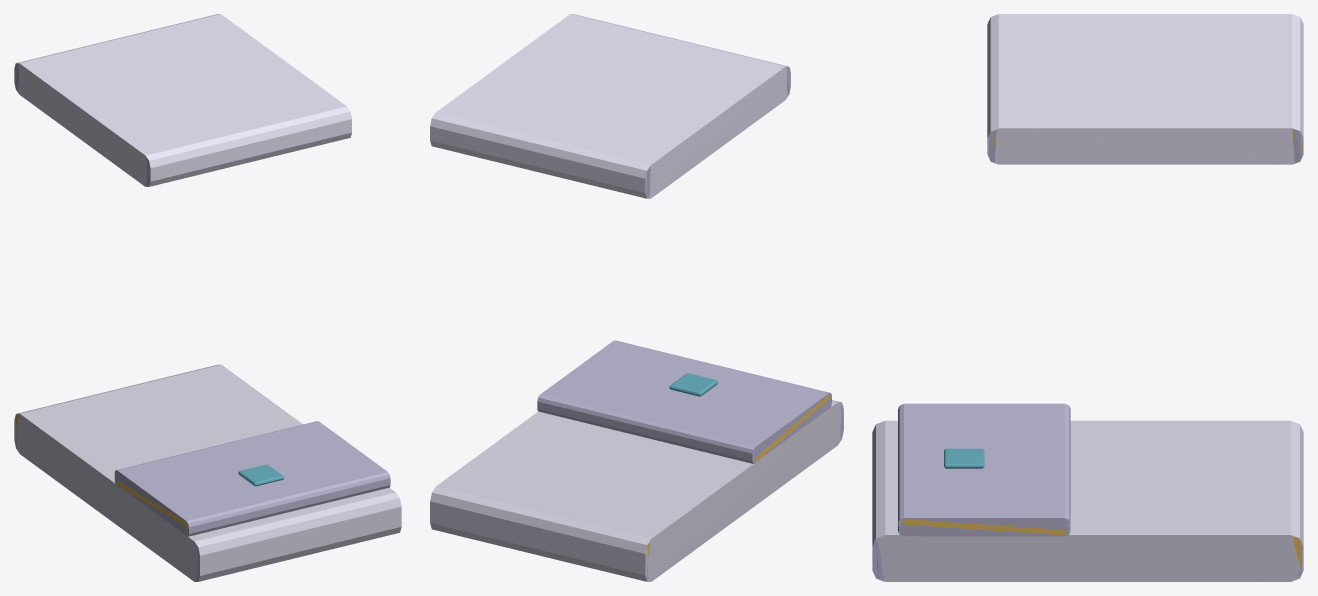
The model's file is SM_ModularShelf_MiddleSection2.fbx.
The picture shows the model from 3 angles, left to right: view 1: azimuth 30°, elevation 25°; view 2: azimuth 150°, elevation 25°; view 3: azimuth 270°, elevation 25°; orthographic projection. The views are drawn at different scales.
Parts seen in each view (by area): view 1: SM_ModularShelf_MiddleSection2; view 2: SM_ModularShelf_MiddleSection2; view 3: SM_ModularShelf_MiddleSection2.
Part boxes in pixels (x1=…): SM_ModularShelf_MiddleSection2: x1=14, y1=14, x2=401, y2=581; SM_ModularShelf_MiddleSection2: x1=430, y1=14, x2=843, y2=581; SM_ModularShelf_MiddleSection2: x1=872, y1=14, x2=1303, y2=581.
Bounding box in the file's own units: 0.94 × 1.74 × 1.5.
